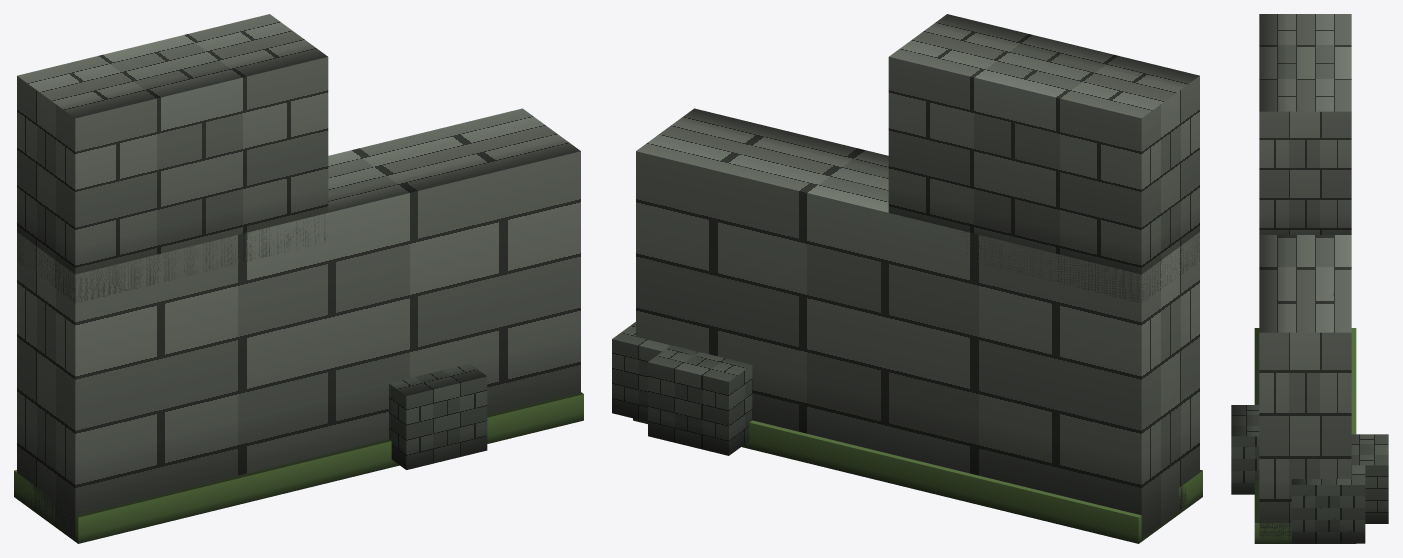
Rendered from wall_ruined.gltf.
3 views of the same model, side by side, from view 1: azimuth 30°, elevation 25°; view 2: azimuth 150°, elevation 25°; view 3: azimuth 270°, elevation 25° (orthographic). The views are drawn at different scales.
Visible parts, largest first — view 1: wall_ruined; view 2: wall_ruined; view 3: wall_ruined.
Boxes of the visible parts, <box> form: wall_ruined: <box>14,14,583,543</box>; wall_ruined: <box>612,14,1202,543</box>; wall_ruined: <box>1231,14,1388,543</box>.
Bounding box in the file's own units: 1.03 × 0.8 × 0.34.
Materials: 1 (1 with a texture image).
